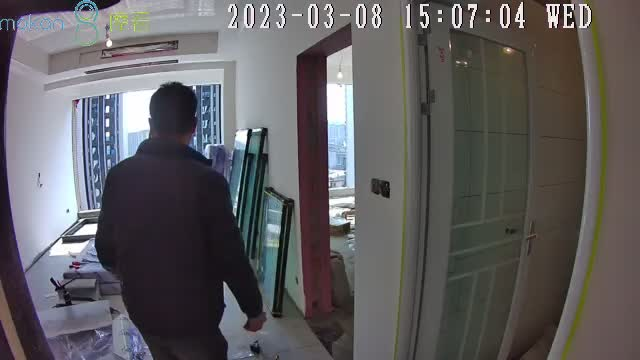people: (95, 82, 266, 360)
window: (87, 83, 220, 207)
